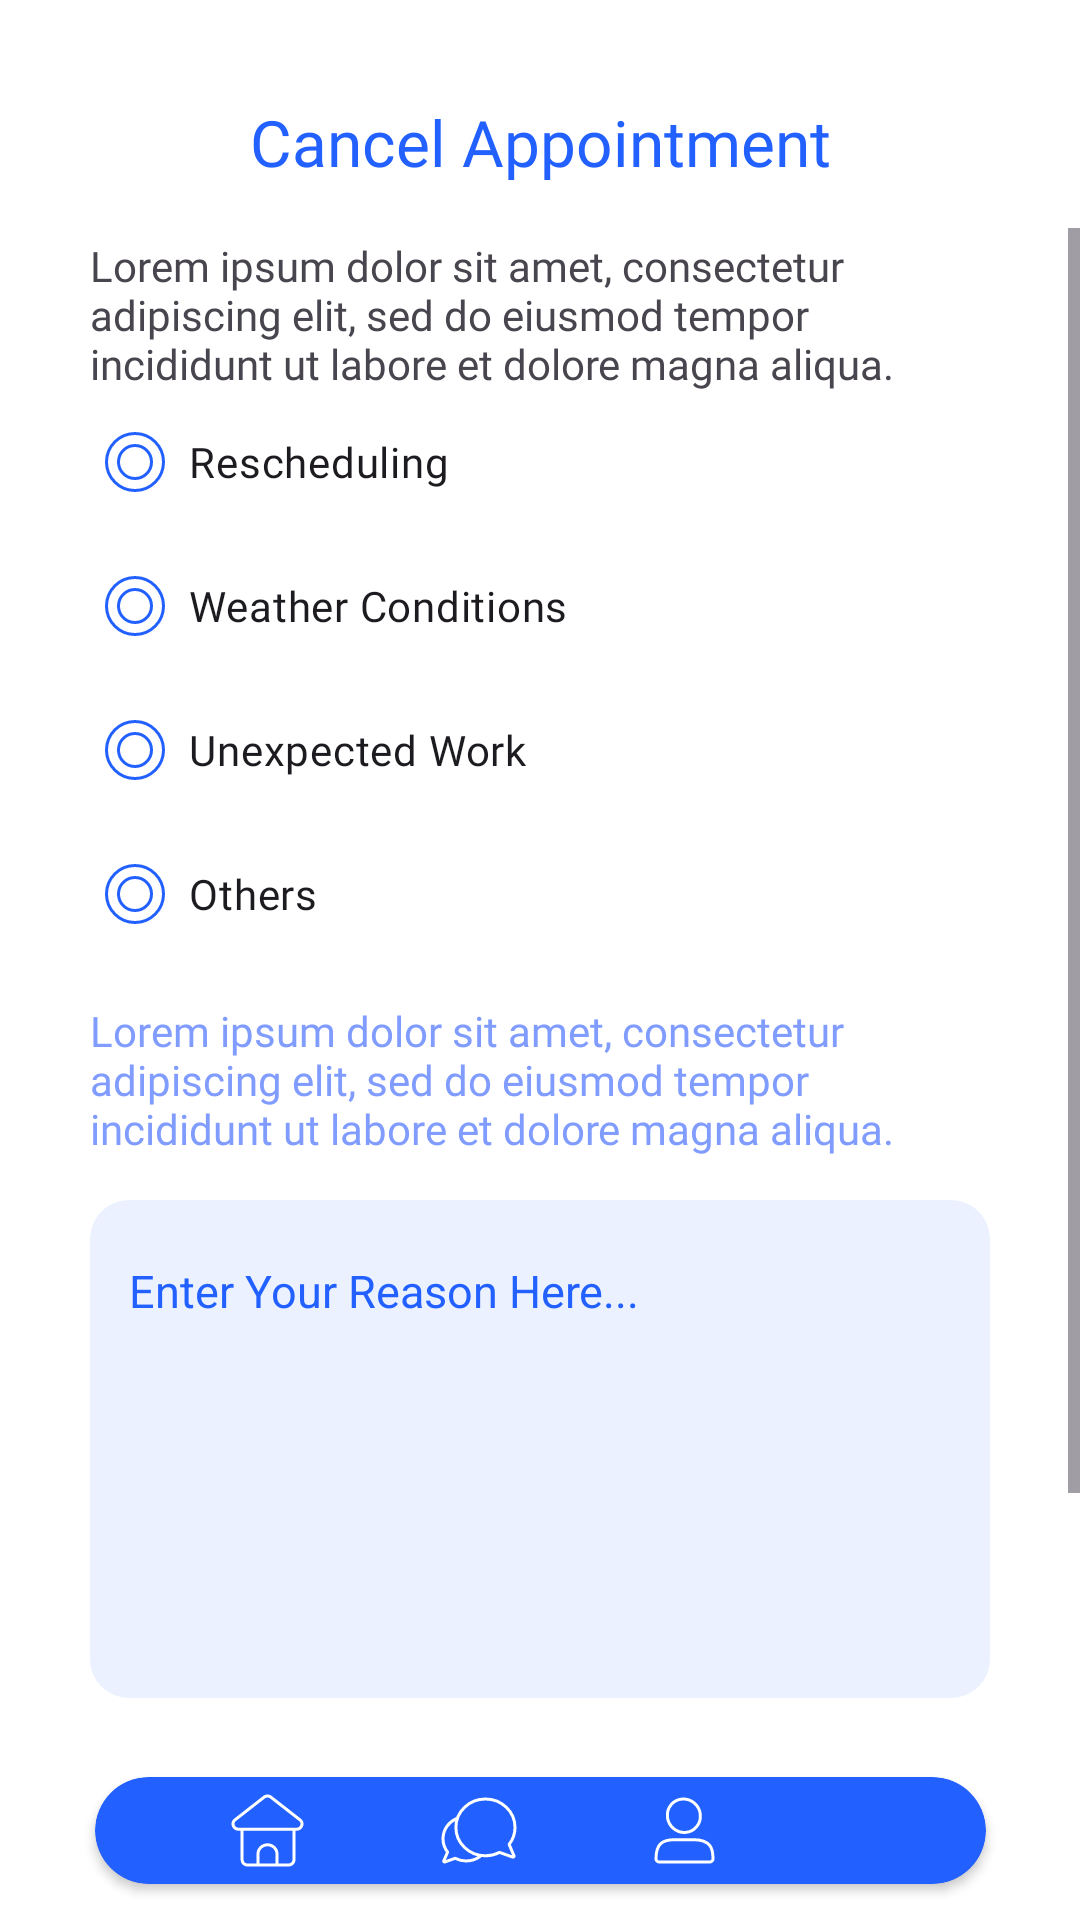

Where icons sit on this 1080px x 1920px app screen, as (left=x1, top=y1, right=x2, bottom=y2):
chat: (left=441, top=1797, right=517, bottom=1864)
home: (left=231, top=1794, right=304, bottom=1867)
profile: (left=654, top=1797, right=715, bottom=1864)
